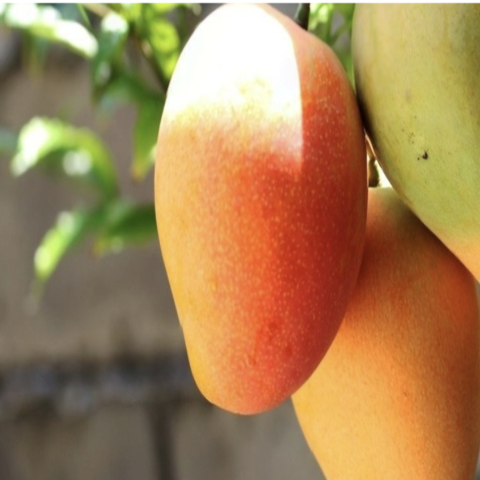mango: (135, 1, 398, 456)
